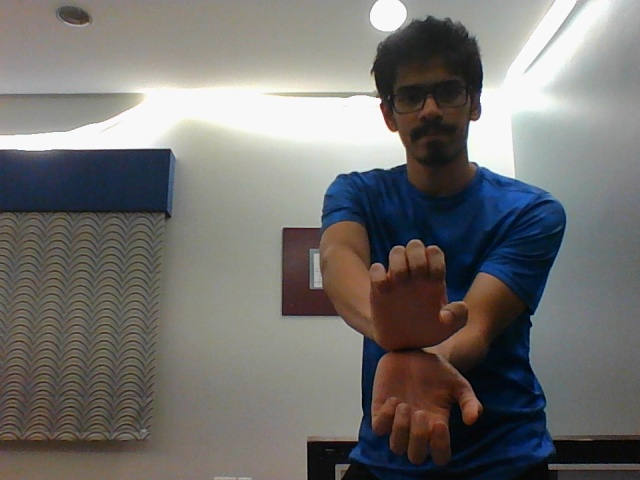blast: (357, 234, 487, 465)
